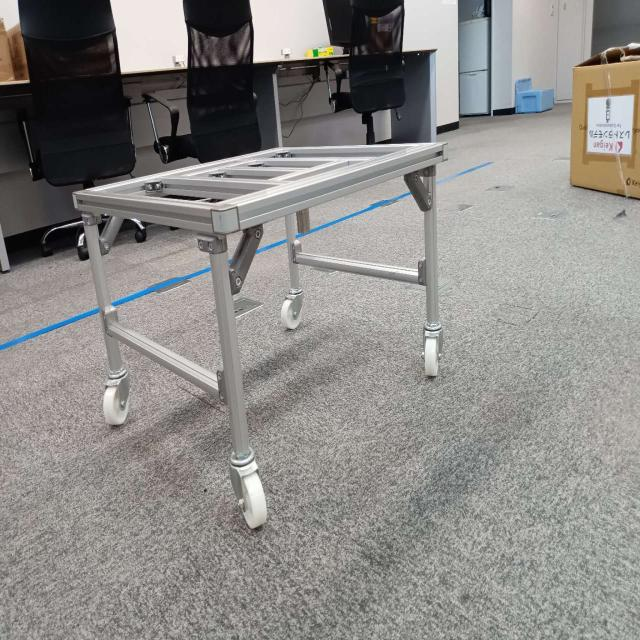box: (574, 53, 640, 201)
door: (209, 148, 440, 292)
side: (76, 192, 234, 405)
